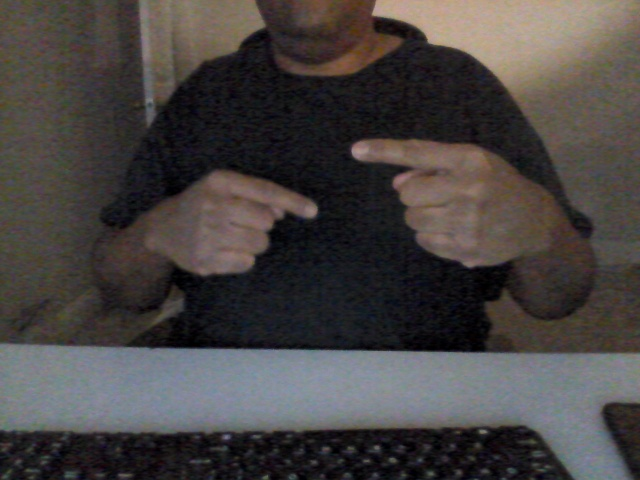go: (156, 123, 539, 296)
